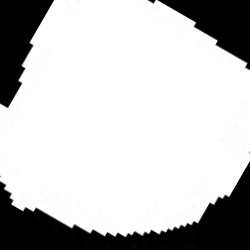spot: (1, 1, 248, 237)
